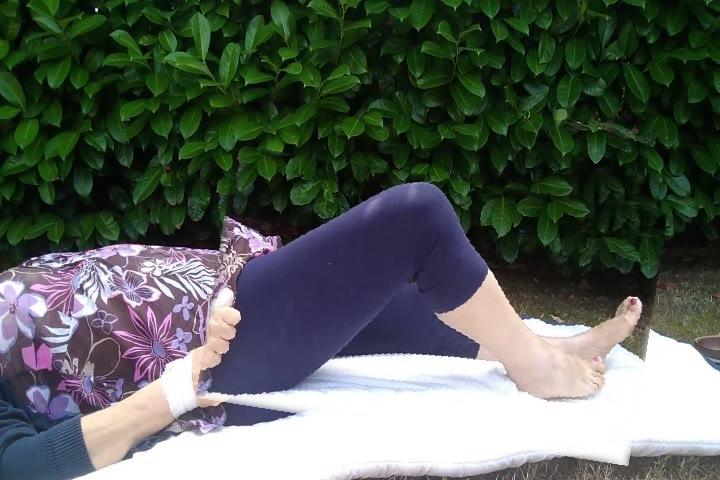lowerbody: (206, 163, 660, 451)
